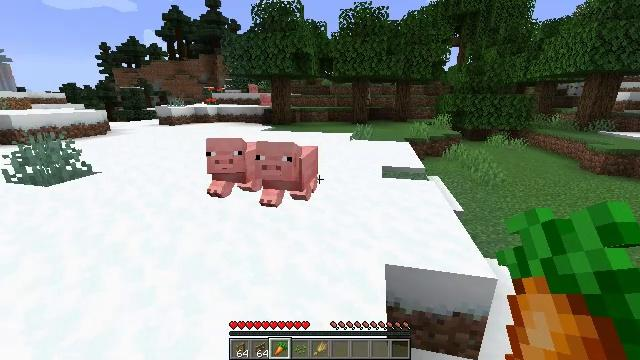pig: (259, 140, 319, 207), (206, 138, 261, 198), (260, 94, 273, 106), (248, 83, 259, 94)
